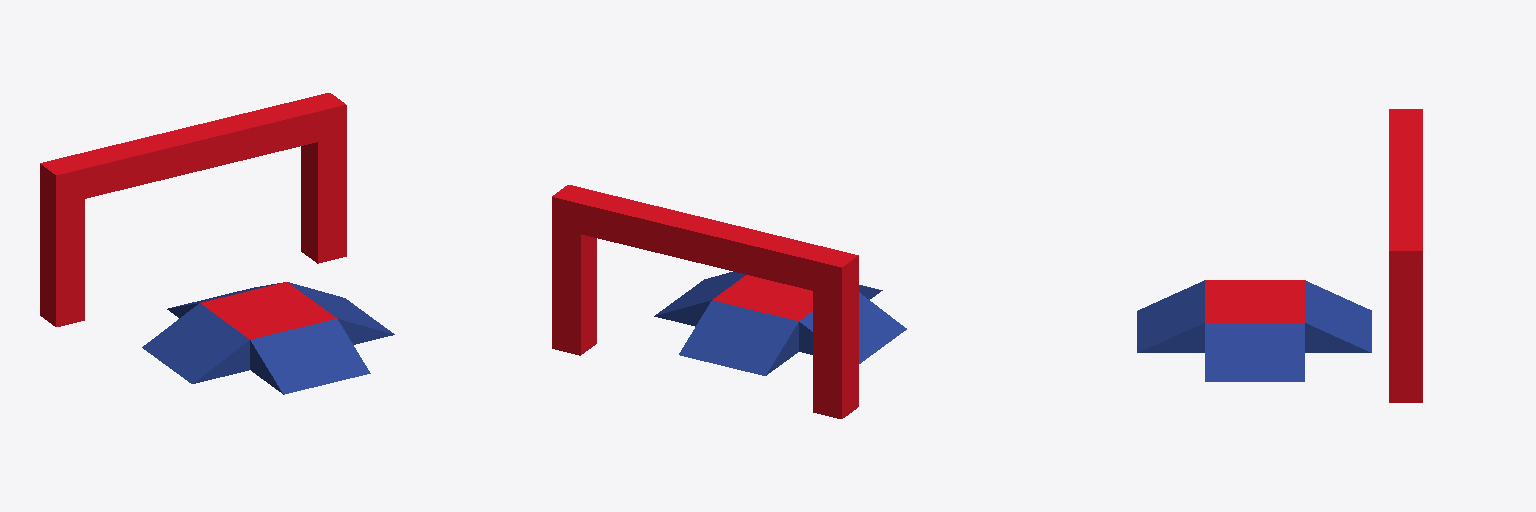
Rendered from arena2.obj.
3 renders of one model, left to right at view 1: azimuth 30°, elevation 25°; view 2: azimuth 150°, elevation 25°; view 3: azimuth 270°, elevation 25°, orthographic.
Parts seen in each view (by area): view 1: obj_0; view 2: obj_0; view 3: obj_0.
Boxes of the visible parts, <box> form: obj_0: <box>40,93,394,394</box>; obj_0: <box>552,185,906,418</box>; obj_0: <box>1137,109,1422,402</box>.
Size of the model in its own units: 200 by 100 by 170.